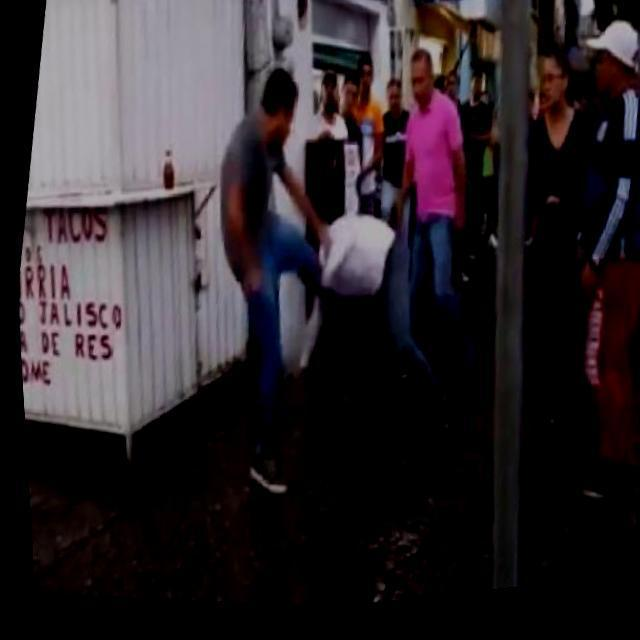fight: (154, 34, 472, 513)
